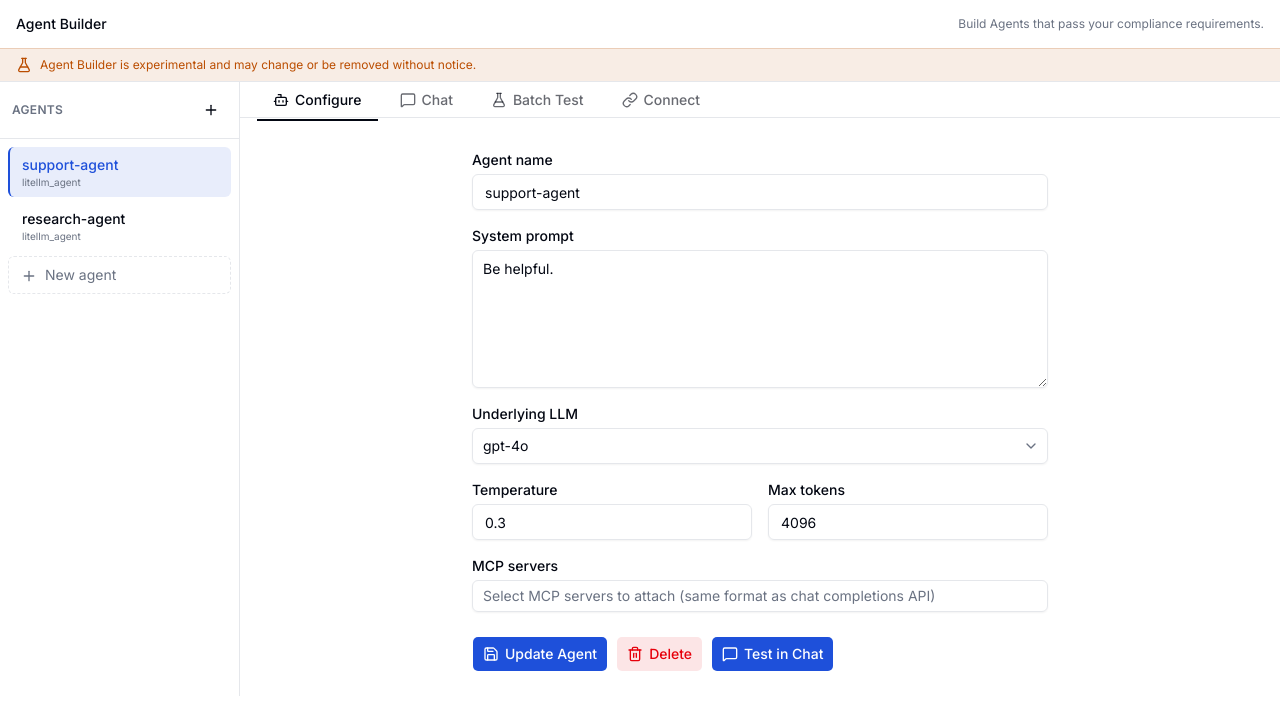
Test: AgentBuilderView › offers a blank draft and a save control for a new agent
Expected: the button "support-agent litellm_agent" is shown, [8, 147, 231, 197]
Click the button "New agent": click(120, 275) [8, 256, 231, 294]
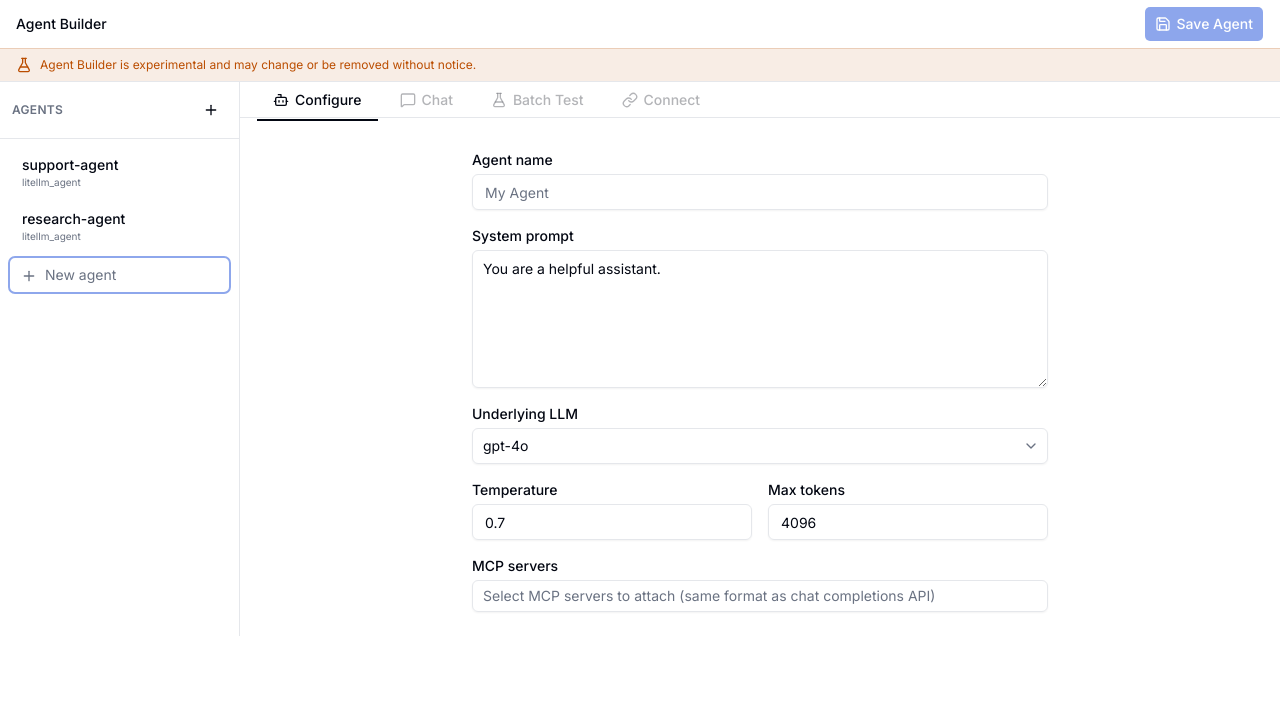
Expected: the text box showing "You are a helpful assistant." is shown, [472, 250, 1048, 388]
Result: the button "Save Agent" is shown at [1144, 6, 1264, 42]
Result: the button "Update Agent" is gone
